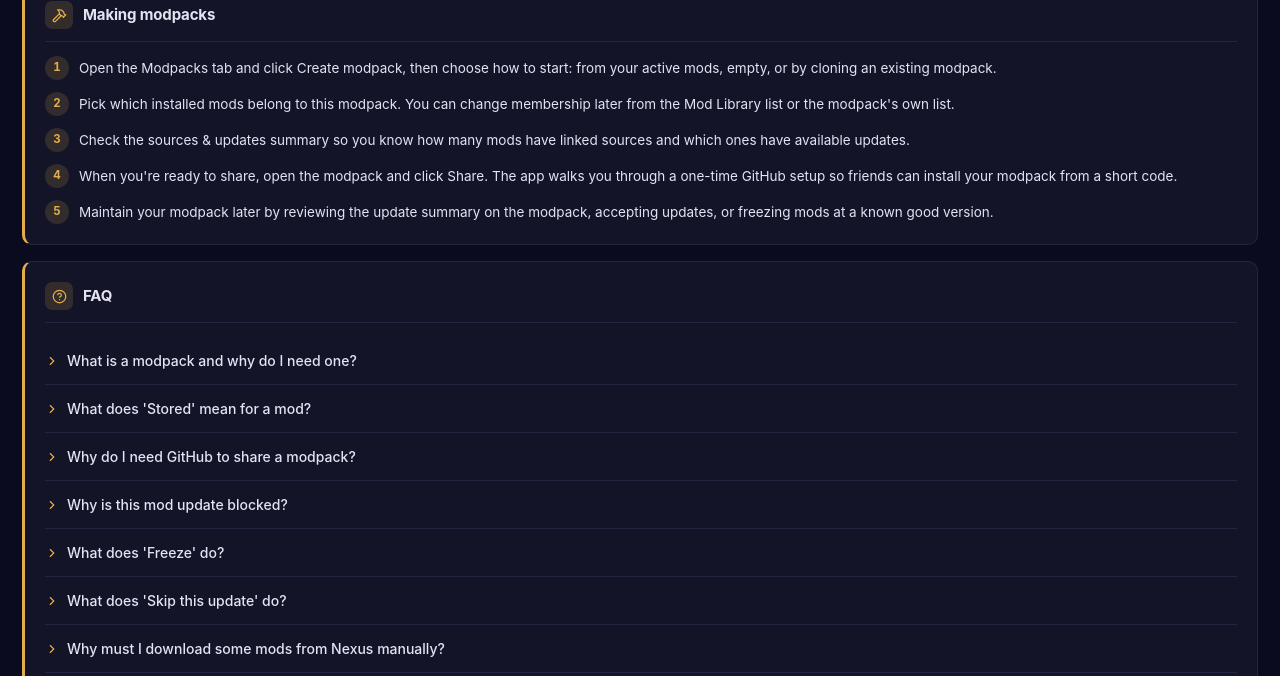
Scenario: <HelpView> › FAQ item expands its answer on click and collapses on a second click
This screenshot has width=1280, height=676.
(page scrolled)
Check: the text "a modpack is a saved set of mods" is not shown
Click the button "What is a modpack and why do I need one?".
click(212, 360)  # box [45, 339, 1237, 382]
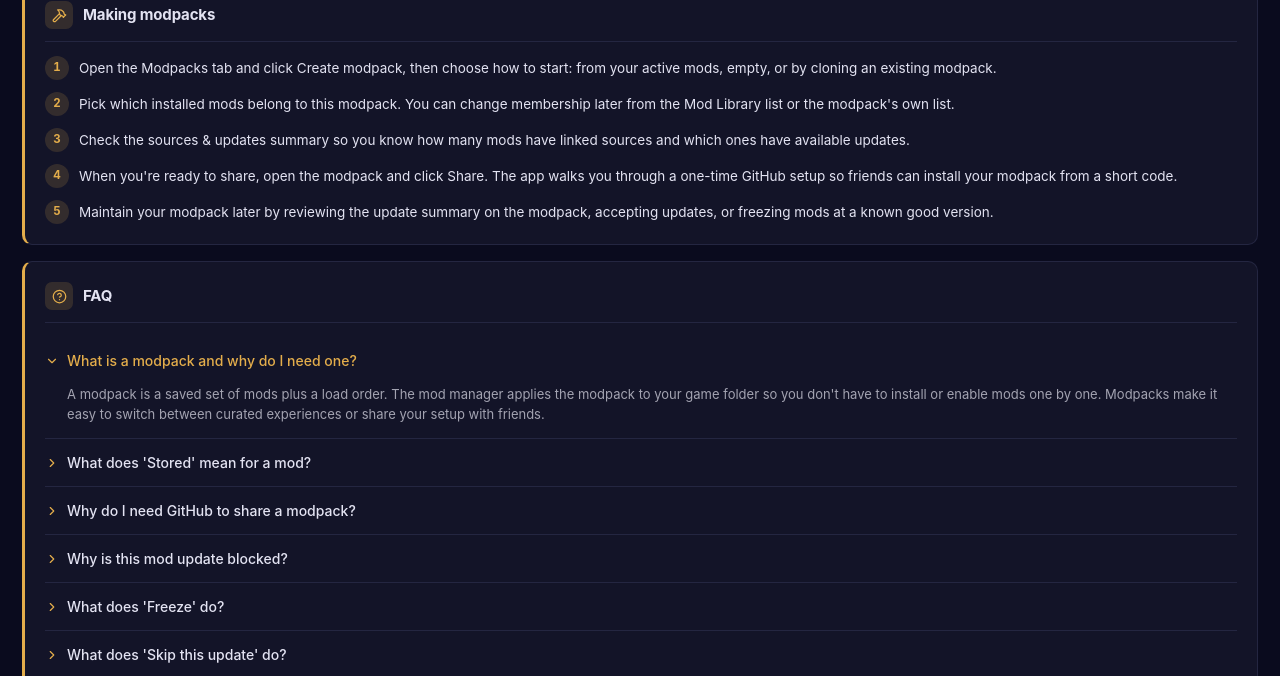
Check: the button "What is a modpack and why do I need one?" is expanded
Check: the text "A modpack is a saved set of mods" is shown, box [67, 386, 1217, 422]
Click the button "What is a modpack and why do I need one?".
click(212, 360)  # box [45, 339, 1237, 382]
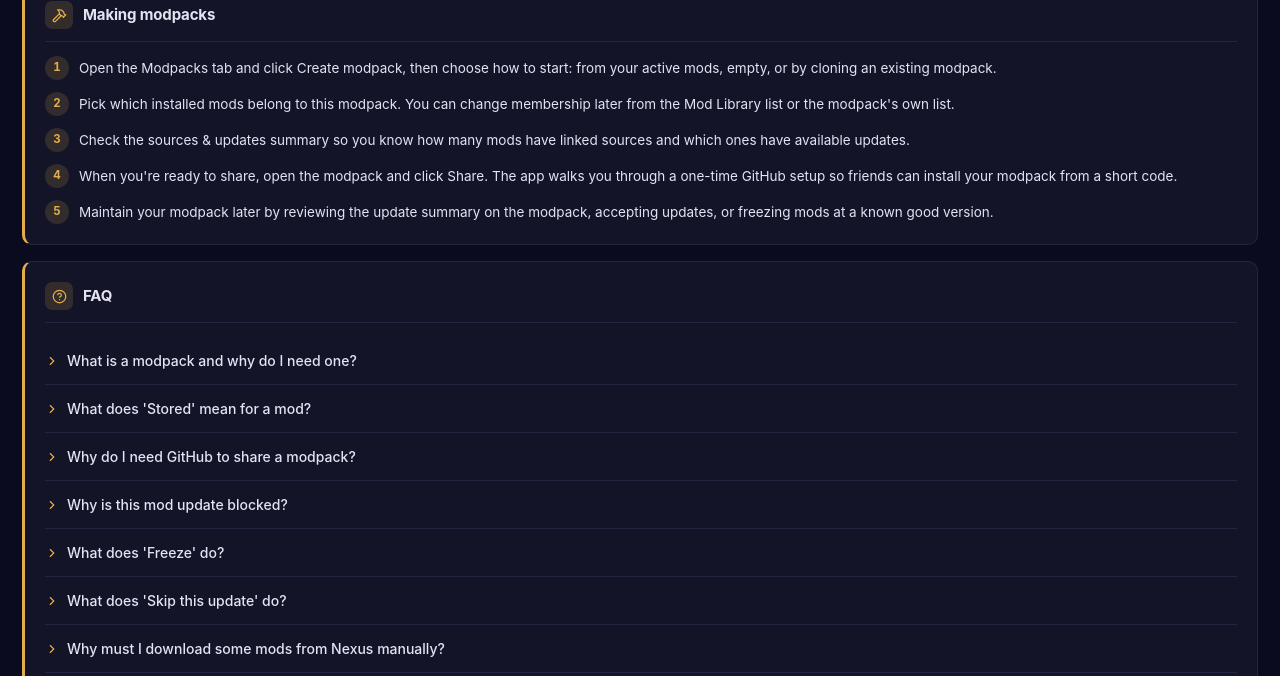
Check: the button "What is a modpack and why do I need one?" is collapsed, box [45, 339, 1237, 382]
Check: the text "A modpack is a saved set of mods" is gone
